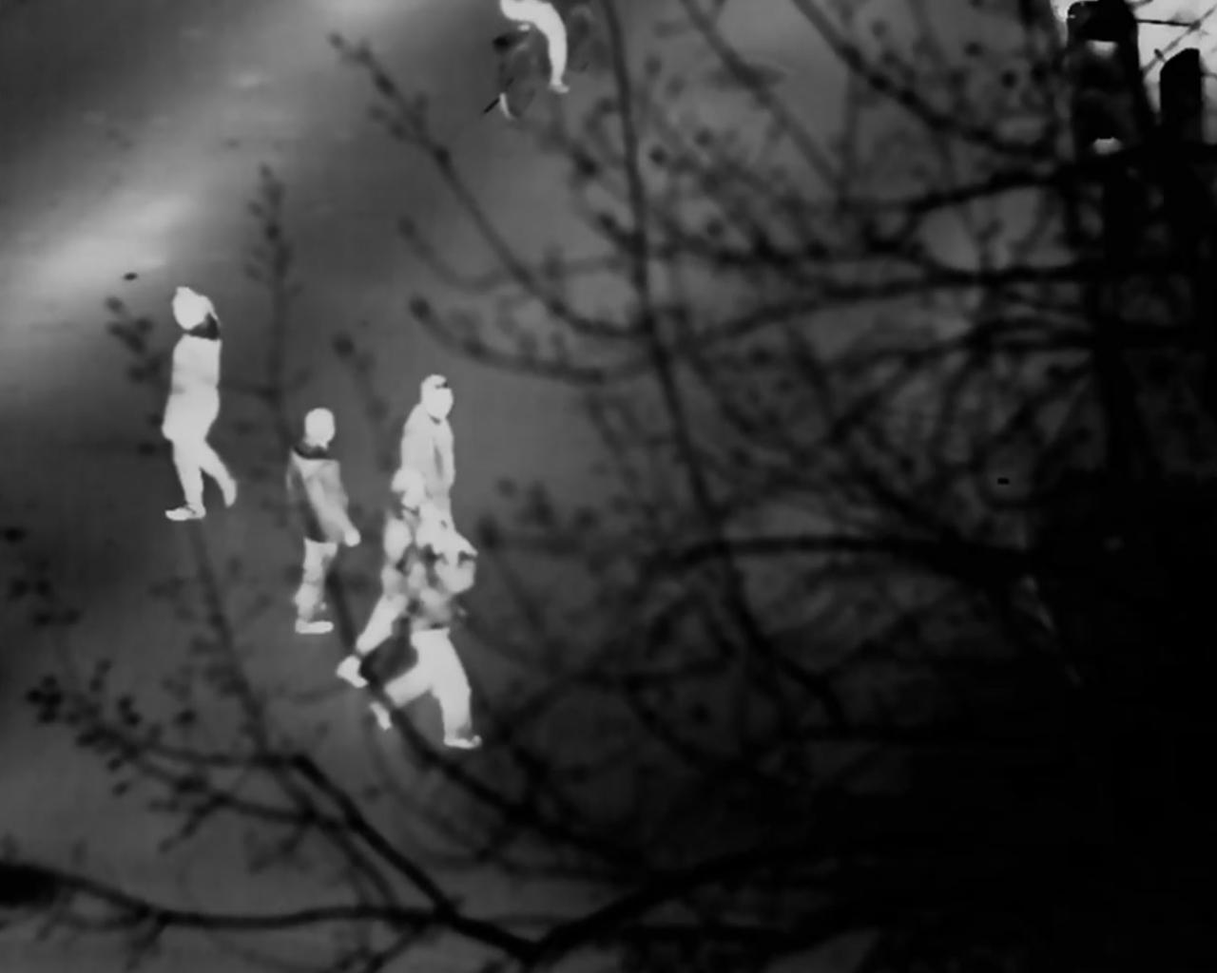person: (339, 468, 471, 689), (369, 524, 491, 760), (152, 279, 250, 526), (285, 412, 359, 611), (402, 360, 463, 544)
